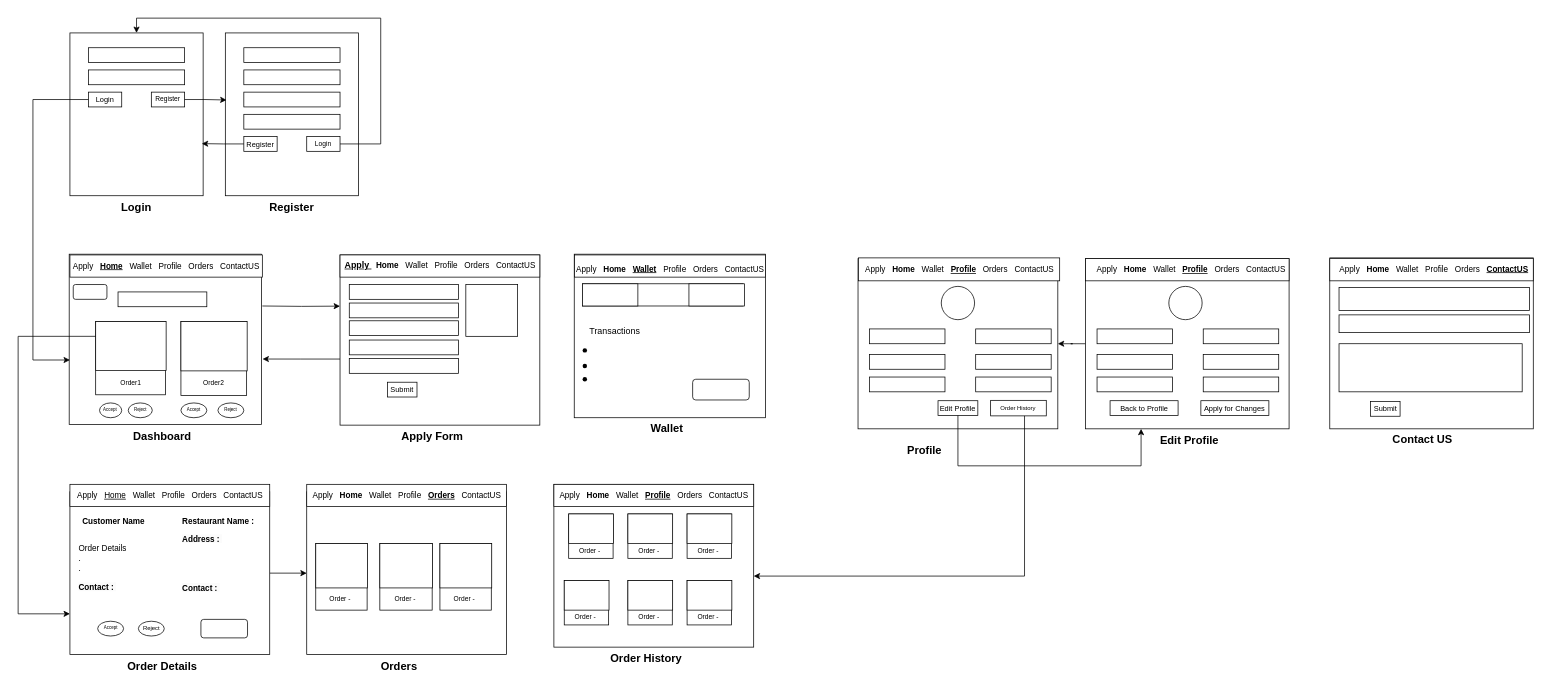
The diagram is 1553 pixels wide and 690 high, and some of its shapes have lost their labels. Here are the shapes that lost their labels. From the top down, the centre of each, then its label:
pixel 90 291: Clock IN/OUT
pixel 720 389: Cash Out
pixel 224 628: Amount : XXX
